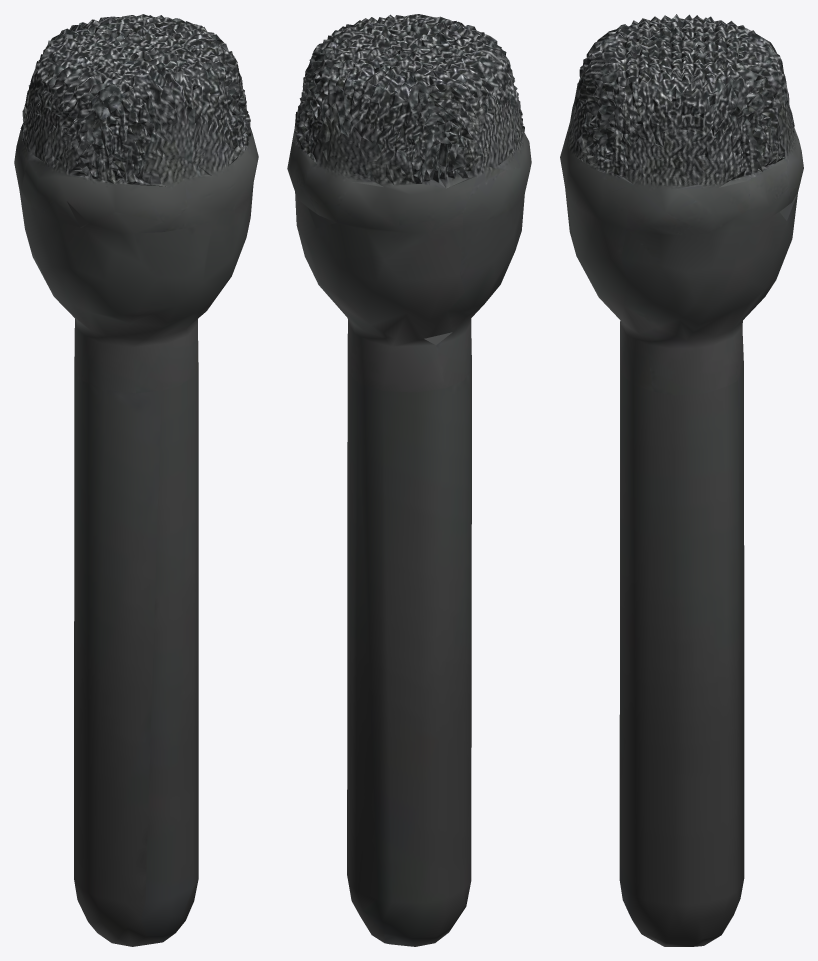
The picture shows the model from 3 angles, left to right: view 1: azimuth 30°, elevation 25°; view 2: azimuth 150°, elevation 25°; view 3: azimuth 270°, elevation 25°; orthographic projection.
Parts seen in each view (by area): view 1: ev-re50-body; view 2: ev-re50-body; view 3: ev-re50-body.
Part boxes in pixels (box(x1,y1,x2,y2)): ev-re50-body: box(14, 14, 258, 946); ev-re50-body: box(287, 14, 531, 946); ev-re50-body: box(560, 14, 803, 946).
Bounding box in the file's own units: 0.049 × 0.197 × 0.049.
1 material, 1 textured.
